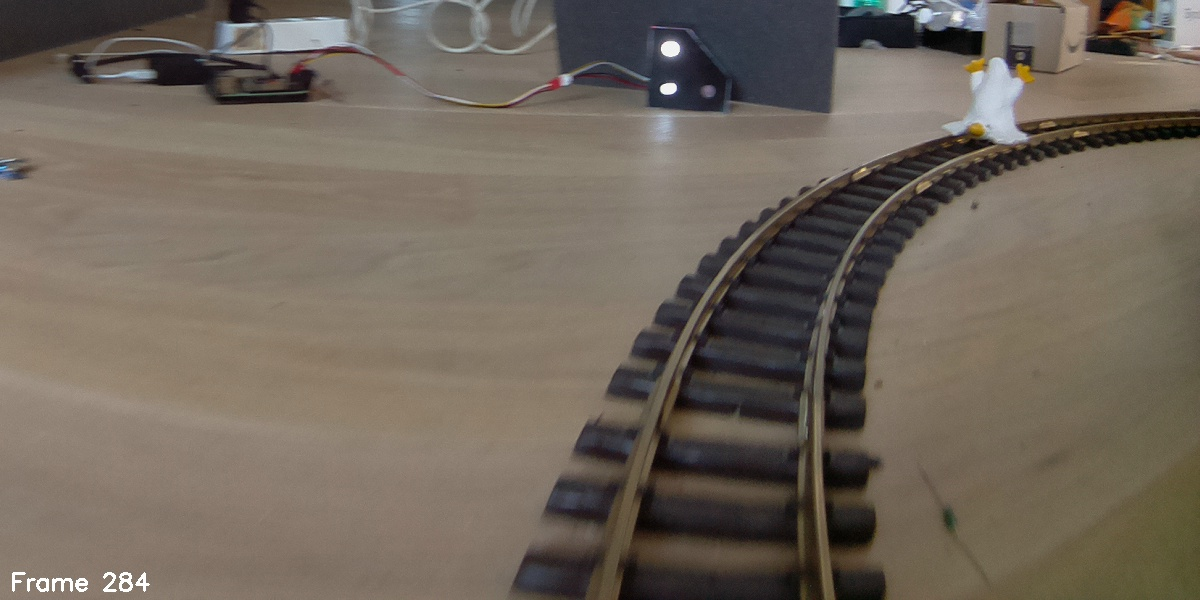Fahrt: (650, 24, 732, 113)
